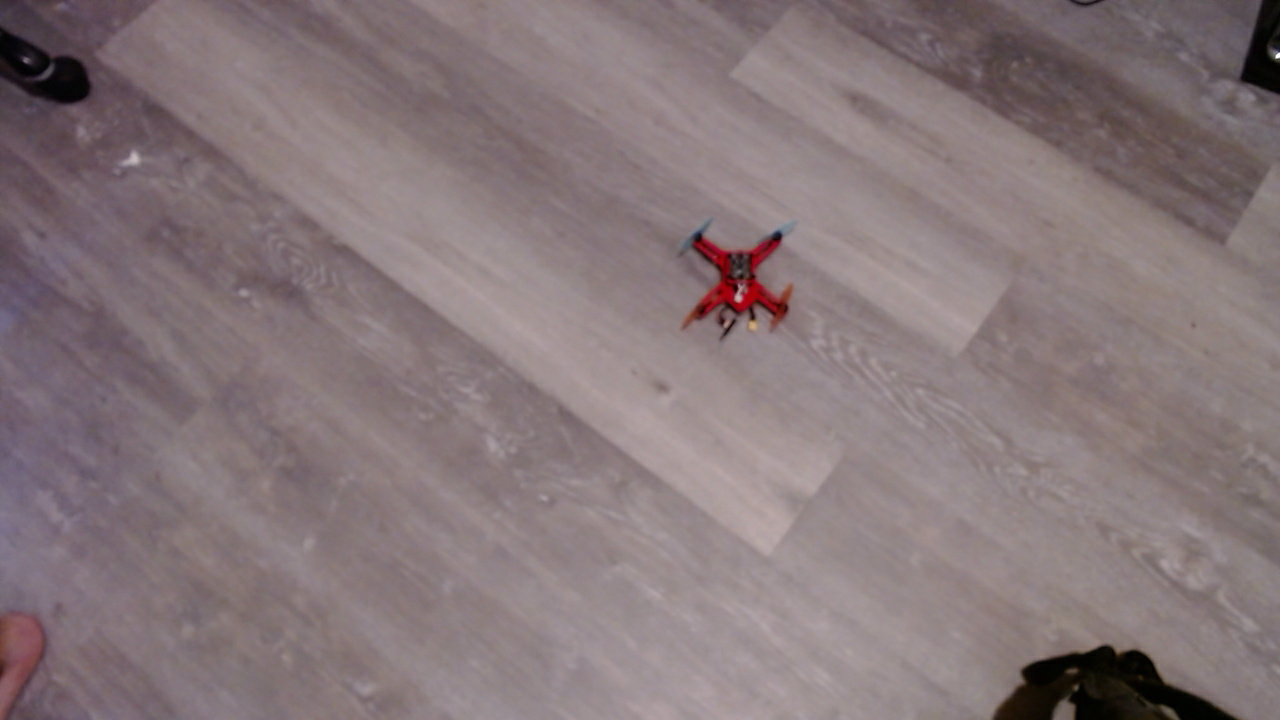crazyflie: (679, 221, 817, 348)
